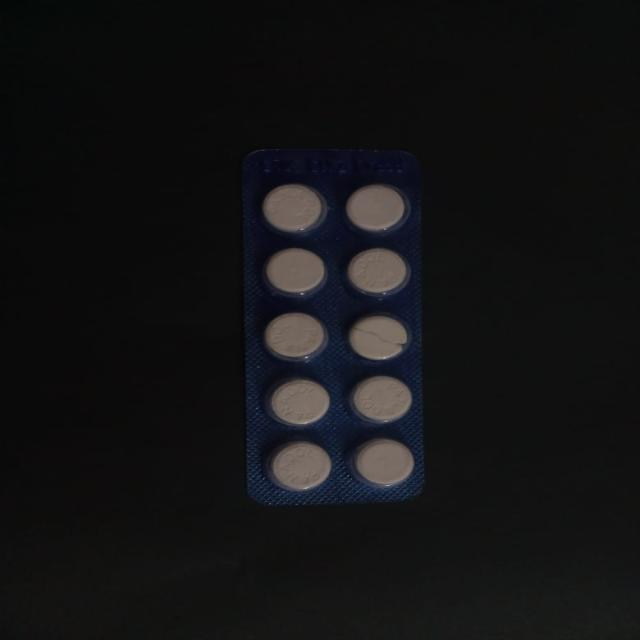defect: (344, 308, 412, 364)
